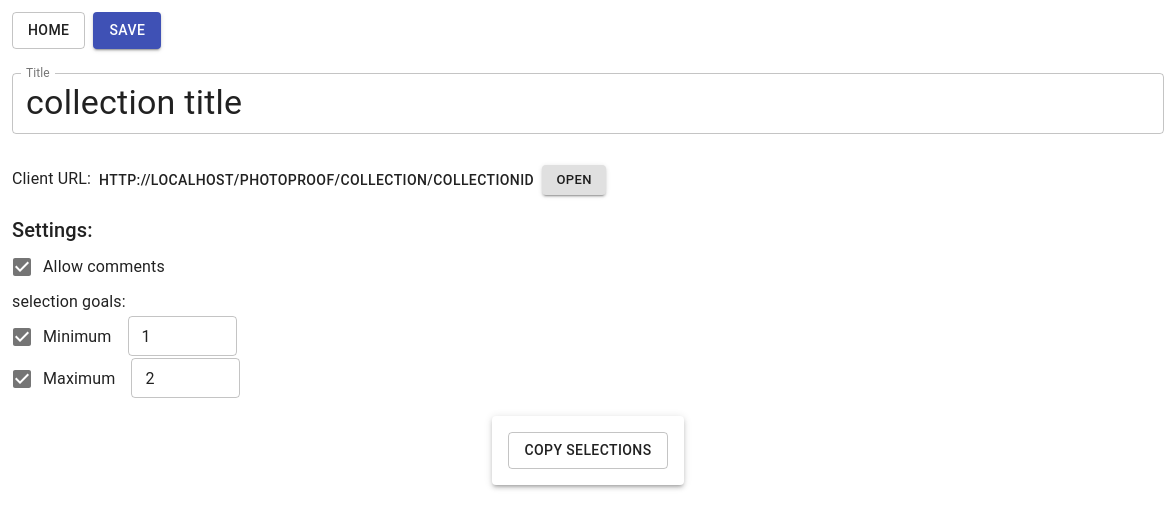
<CollectionDetails/> › when collection stattus is editing › saving empty title renders error
Clear the field labelled "Title": coordinates (588, 103) [12,72,1164,134]
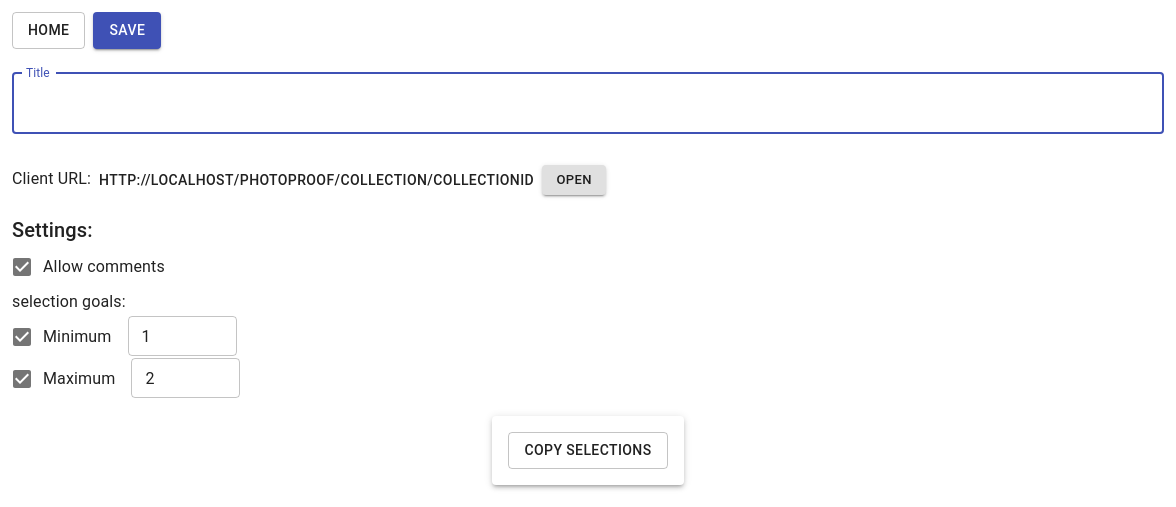
Click the button "Save": coordinates (127, 30) [93,12,161,48]
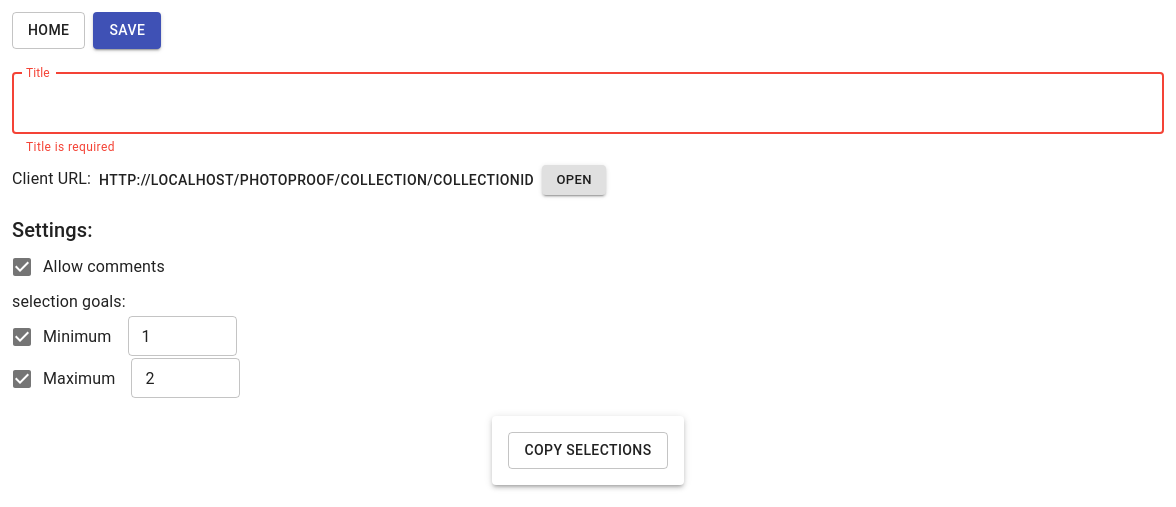
expect the text "Title is required" is shown: met, box [26,140,115,154]
